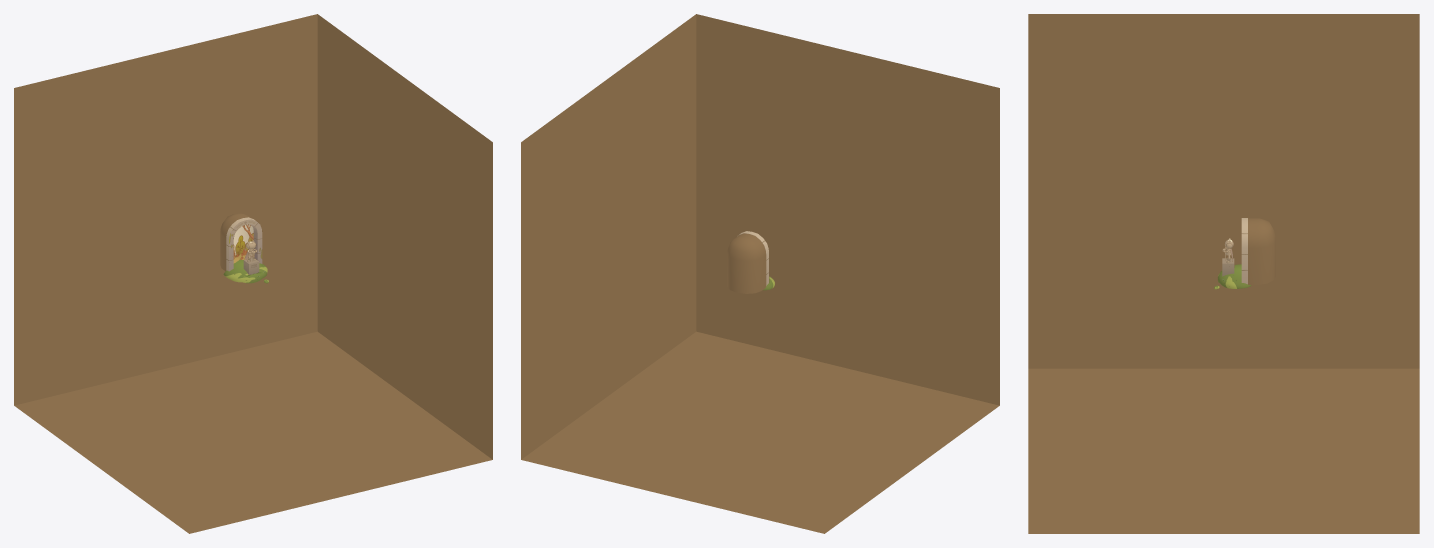
The model's file is frog_statue.glb.
The picture shows the model from 3 angles, left to right: view 1: azimuth 30°, elevation 25°; view 2: azimuth 150°, elevation 25°; view 3: azimuth 270°, elevation 25°; orthographic projection. The views are drawn at different scales.
Parts seen in each view (by area): view 1: Box001__0, Object008_Material #4_0; view 2: Box001__0, Object008_Material #4_0; view 3: Box001__0, Object008_Material #4_0.
Part boxes in pixels (x1,y1,x2,y2): Box001__0: (14, 14, 492, 533); Object008_Material #4_0: (220, 213, 268, 283); Box001__0: (521, 14, 999, 533); Object008_Material #4_0: (727, 231, 774, 293); Box001__0: (1028, 14, 1419, 533); Object008_Material #4_0: (1214, 218, 1275, 289).
Bounding box in the file's own units: 20 × 20 × 20.
Materials: 3 (3 with a texture image).
